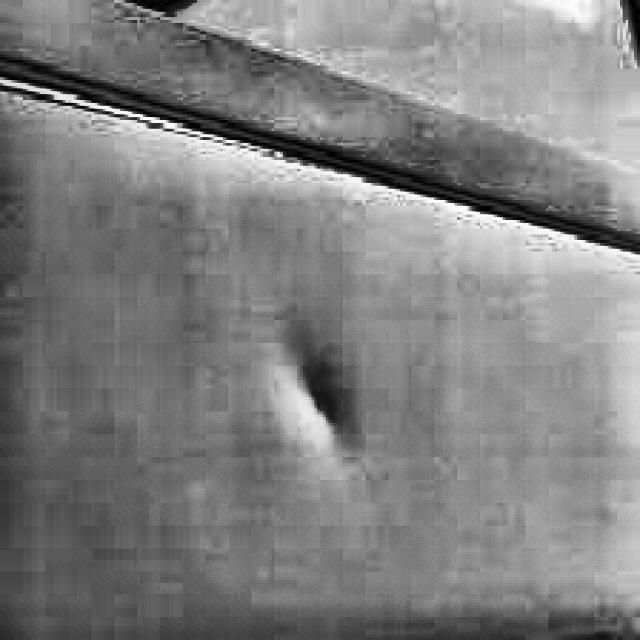door_dent: (262, 351, 360, 440)
